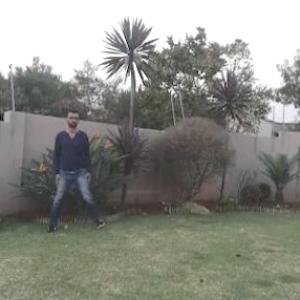follow: (55, 102, 91, 228)
